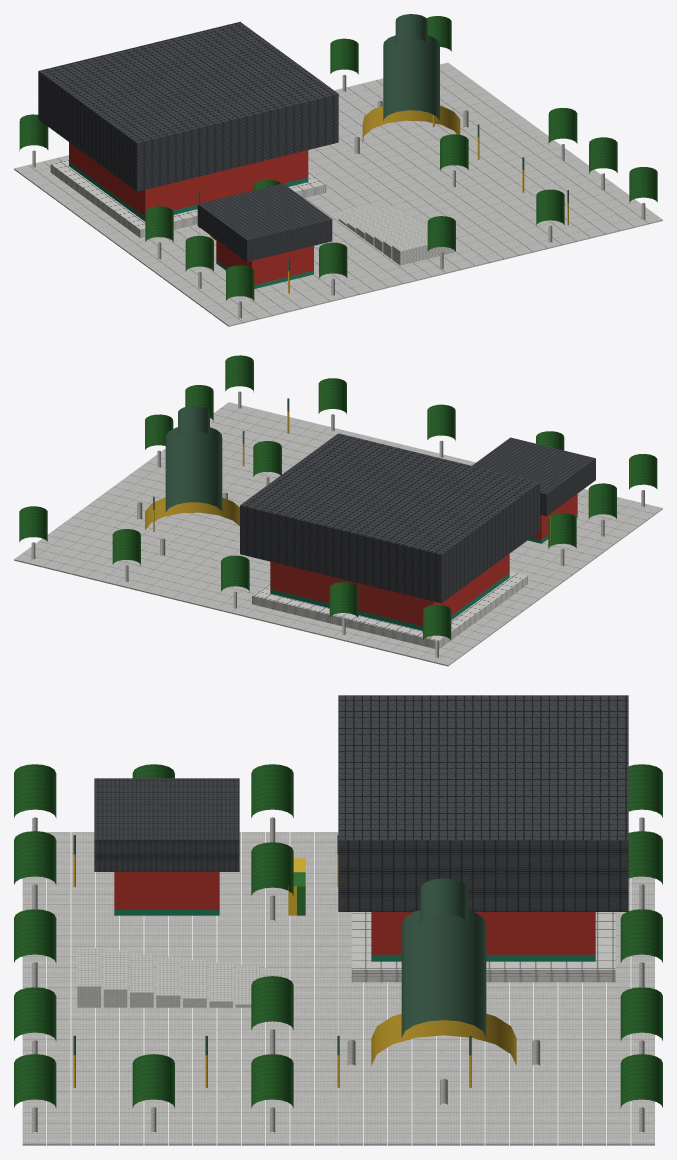
3 views of the same model, one above another, from view 1: azimuth 30°, elevation 25°; view 2: azimuth 150°, elevation 25°; view 3: azimuth 270°, elevation 25° (orthographic). The views are drawn at different scales.
Visible parts, largest first — view 1: 28185_B45_Heungryunsa_Temple; view 2: 28185_B45_Heungryunsa_Temple; view 3: 28185_B45_Heungryunsa_Temple.
Boxes of the visible parts, x1,y1,x2,y2 form: 28185_B45_Heungryunsa_Temple: [14, 14, 662, 326]; 28185_B45_Heungryunsa_Temple: [14, 355, 662, 666]; 28185_B45_Heungryunsa_Temple: [14, 695, 662, 1145].
Bounding box in the file's own units: 55.95 × 15 × 49.2.
Materials: 1 (1 with a texture image).
